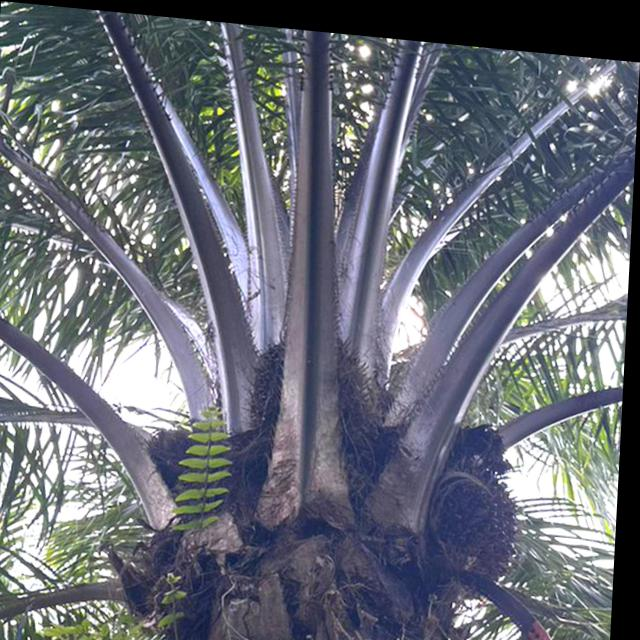unripe: (236, 304, 392, 490)
